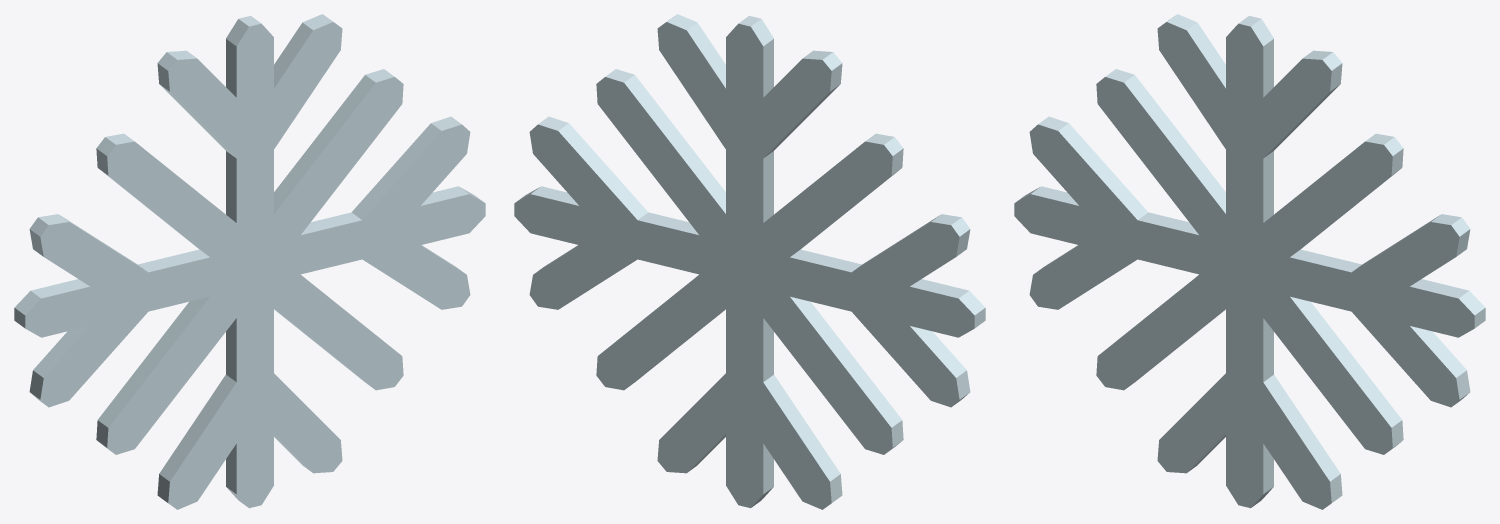
The model's file is SnowFlake.fbx.
3 renders of one model, left to right at view 1: azimuth 30°, elevation 25°; view 2: azimuth 150°, elevation 25°; view 3: azimuth 330°, elevation 25°, orthographic.
Visible parts, largest first — view 1: line_10, line, line_5, line_11, line_9, line_6, line_4, line_7, line_1, line_8, line_2, line_3; view 2: line, line_5, line_10, line_11, line_9, line_6, line_4, line_7, line_2, line_1, line_3, line_8; view 3: line, line_5, line_11, line_10, line_7, line_8, line_3, line_9, line_1, line_2, line_6, line_4.
Boxes of the visible parts, x1=… form: line_10: x1=96, y1=69, x2=403, y2=454; line: x1=226, y1=15, x2=273, y2=508; line_5: x1=14, y1=186, x2=485, y2=337; line_11: x1=96, y1=133, x2=403, y2=390; line_9: x1=351, y1=116, x2=470, y2=252; line_6: x1=29, y1=281, x2=154, y2=407; line_4: x1=157, y1=375, x2=260, y2=509; line_7: x1=29, y1=214, x2=154, y2=308; line_1: x1=157, y1=50, x2=267, y2=160; line_8: x1=356, y1=223, x2=470, y2=309; line_2: x1=244, y1=14, x2=342, y2=159; line_3: x1=243, y1=371, x2=342, y2=473; line: x1=726, y1=15, x2=773, y2=508; line_5: x1=514, y1=186, x2=985, y2=337; line_10: x1=596, y1=69, x2=903, y2=454; line_11: x1=596, y1=133, x2=903, y2=390; line_9: x1=529, y1=116, x2=648, y2=247; line_6: x1=845, y1=279, x2=970, y2=407; line_4: x1=733, y1=375, x2=842, y2=509; line_7: x1=845, y1=214, x2=970, y2=307; line_2: x1=657, y1=14, x2=751, y2=157; line_1: x1=733, y1=50, x2=842, y2=159; line_3: x1=657, y1=371, x2=756, y2=473; line_8: x1=529, y1=223, x2=643, y2=309; line: x1=1226, y1=15, x2=1273, y2=508; line_5: x1=1014, y1=186, x2=1485, y2=337; line_11: x1=1096, y1=69, x2=1403, y2=454; line_10: x1=1096, y1=133, x2=1403, y2=390; line_7: x1=1029, y1=116, x2=1148, y2=247; line_8: x1=1346, y1=279, x2=1470, y2=407; line_3: x1=1233, y1=375, x2=1342, y2=509; line_9: x1=1345, y1=214, x2=1470, y2=308; line_1: x1=1157, y1=14, x2=1254, y2=156; line_2: x1=1232, y1=50, x2=1342, y2=158; line_6: x1=1029, y1=230, x2=1143, y2=309; line_4: x1=1157, y1=371, x2=1255, y2=473.
Bounding box in the file's own units: 108 × 108 × 4.38.
1 material, 1 textured.
